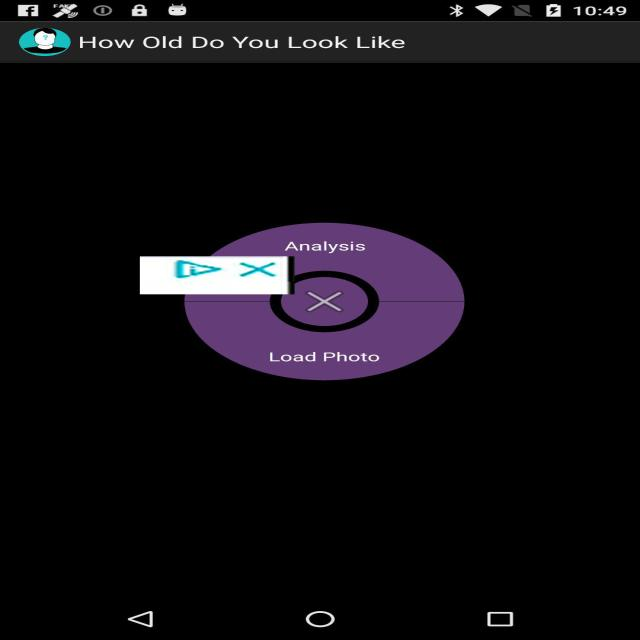sneaking: (140, 256, 294, 294)
